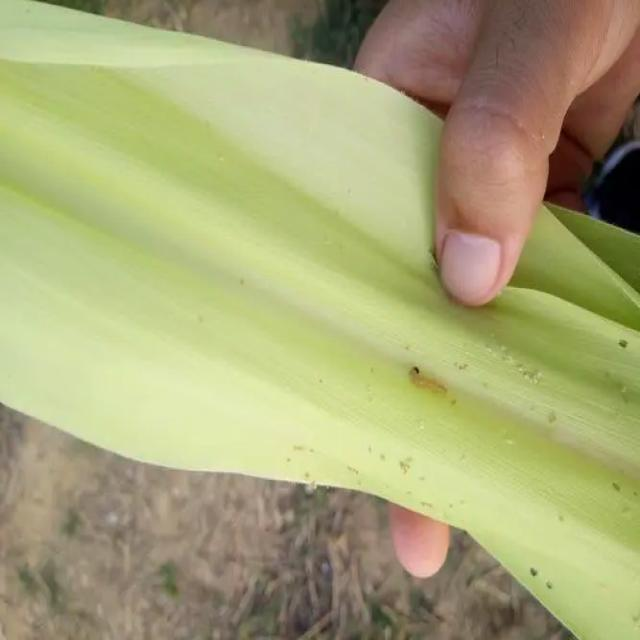pest: (410, 367, 452, 403)
